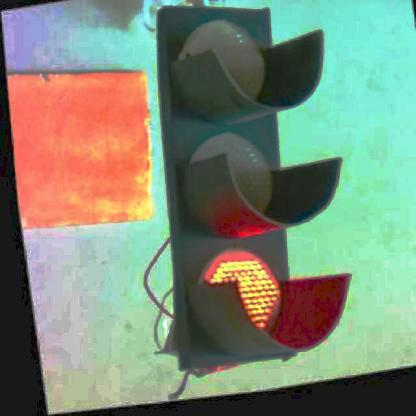Traffic Light -Red-: (128, 0, 360, 378)
